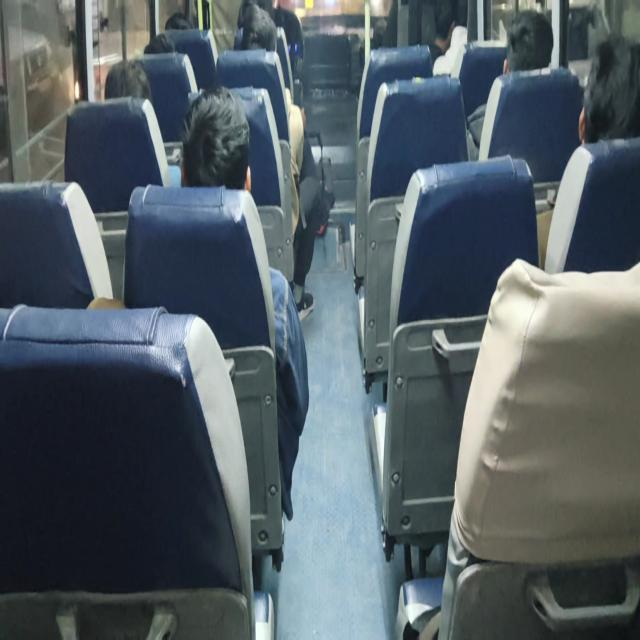person: (186, 94, 278, 212), (572, 59, 640, 163), (496, 18, 560, 84), (83, 60, 149, 121), (426, 2, 467, 44), (237, 9, 275, 51), (126, 36, 178, 66), (146, 6, 187, 28)
